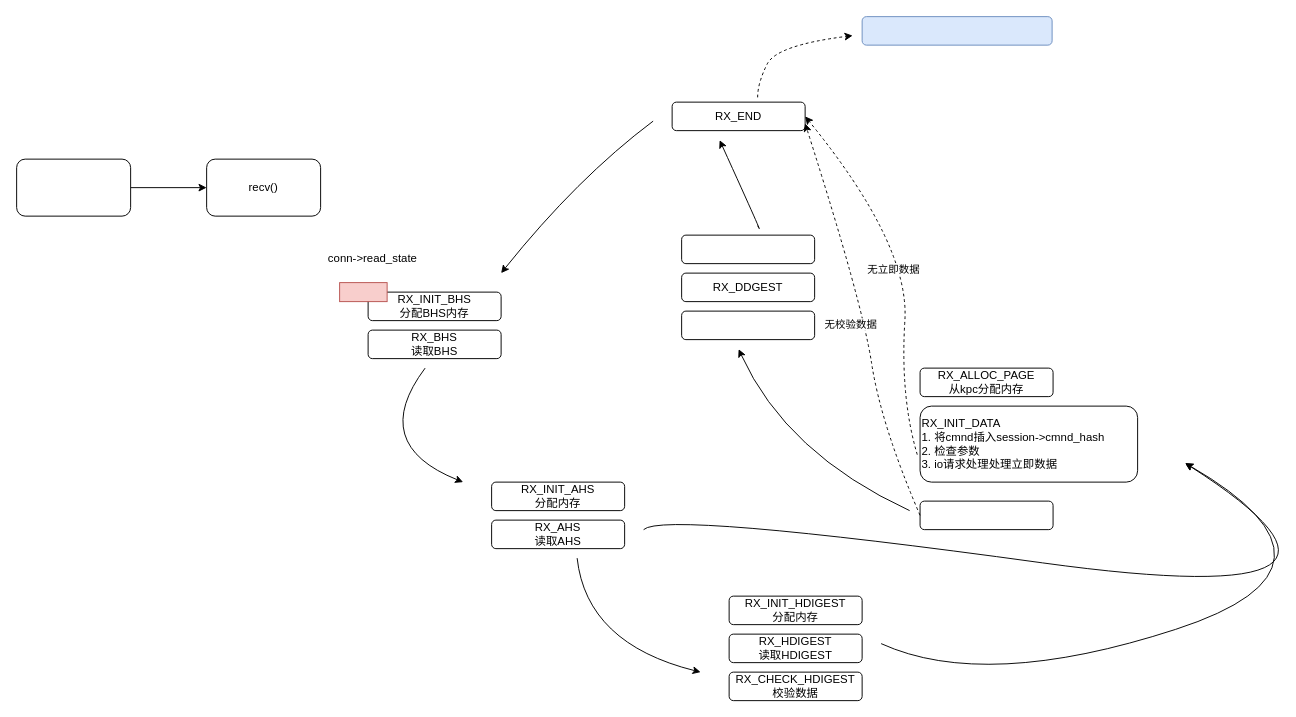
The diagram is 1296 pixels wide and 717 high, and some of its shapes have lost their labels. The shapes that lost their labels are listed below. From the top down, each one's box as (x1, y1, x2, y2) in pixels, then its label:
(861, 16, 1052, 45): cmnd_rx_end
(16, 158, 131, 216): process_io()
(681, 234, 815, 264): RX_INIT_DDGEST
(339, 282, 387, 302): 开始
(681, 310, 815, 340): RX_CHECK_DDGEST
(919, 500, 1053, 530): RX_DATA 接收数据
